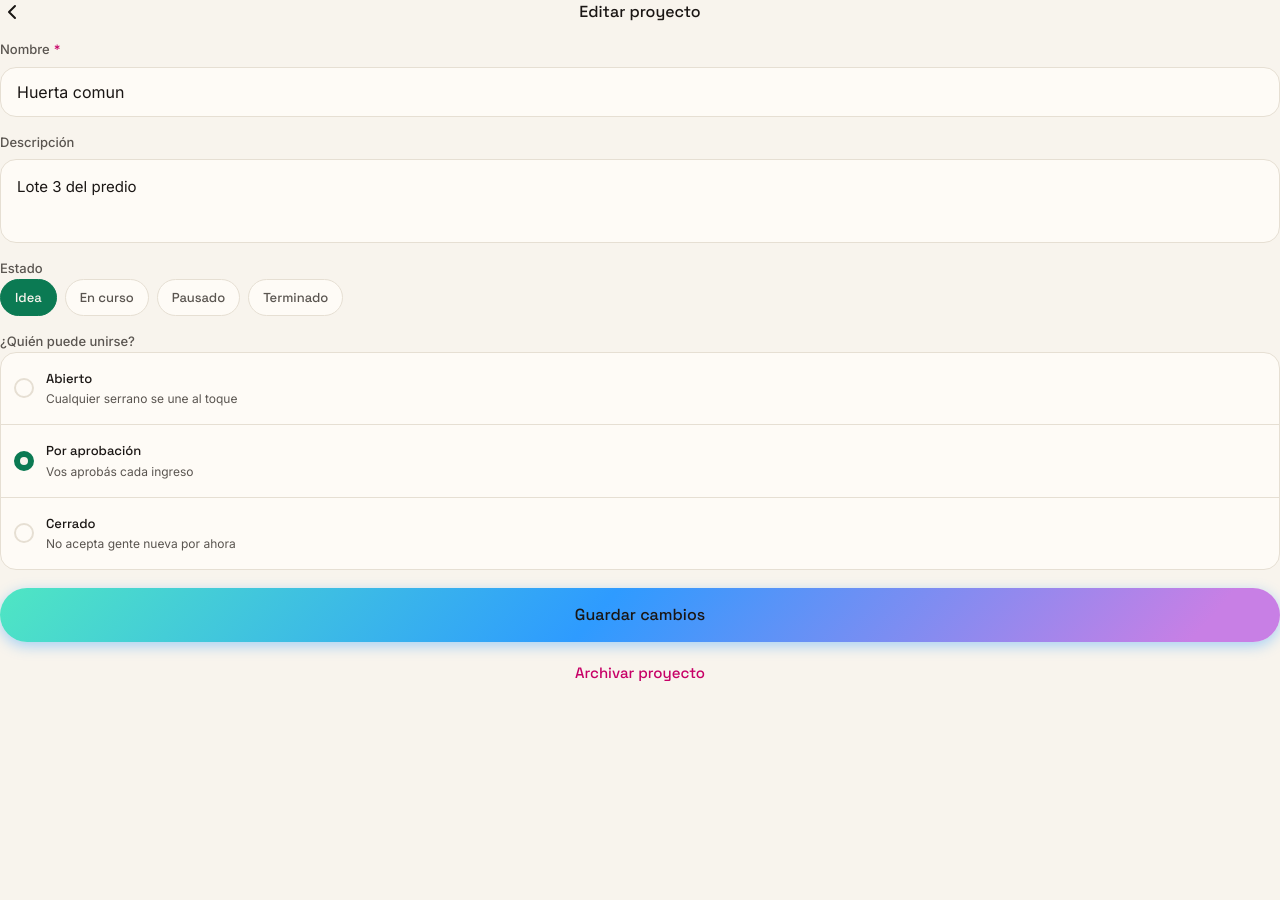
it: EditProjectPage › archive confirmation (ZER-201) › cancels with the X
The image size is (1280, 900).
Click the button "Archivar proyecto". click: (640, 673)
box: [575, 662, 705, 684]
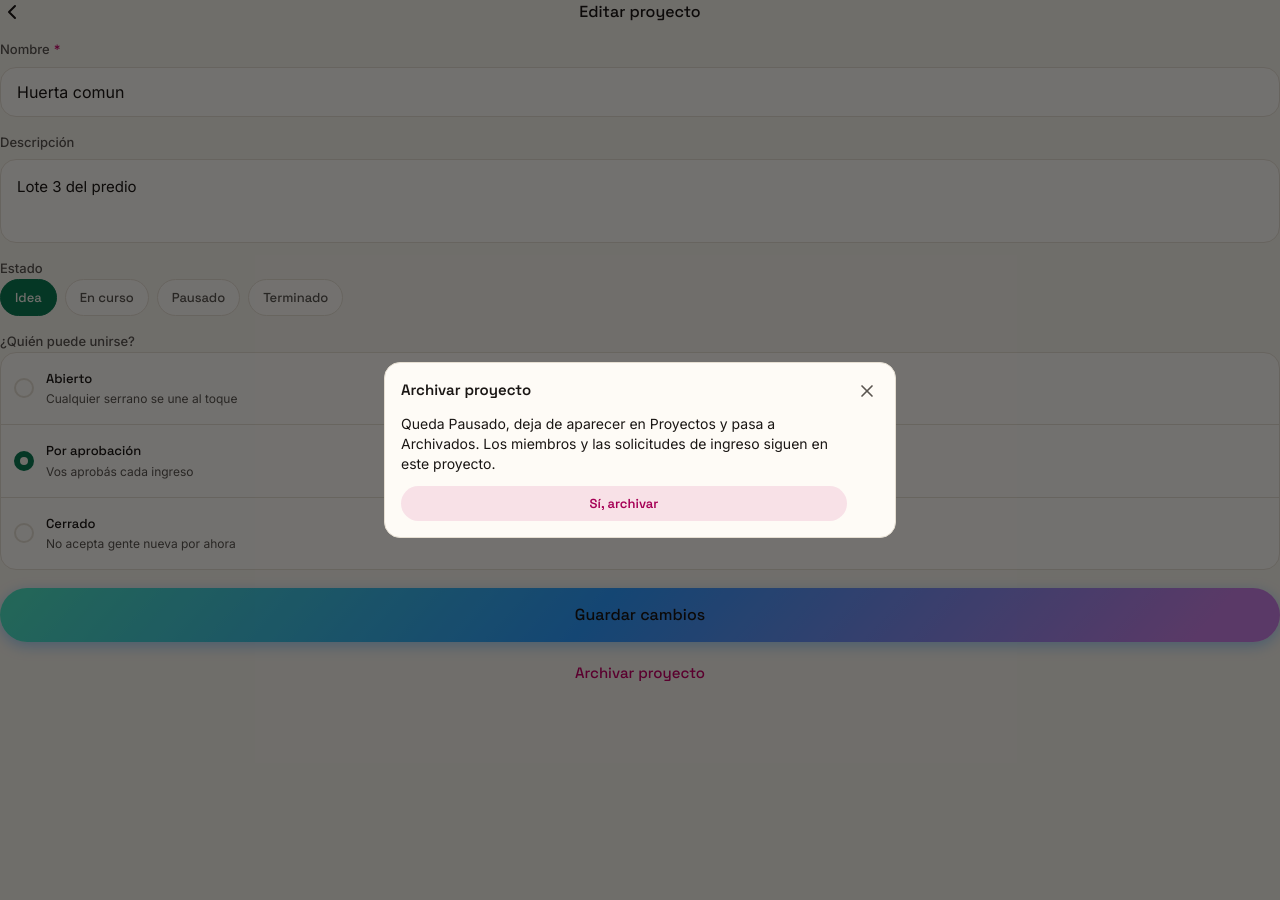
Click the button named "Cancelar". click: (867, 391)
box: [851, 375, 883, 407]
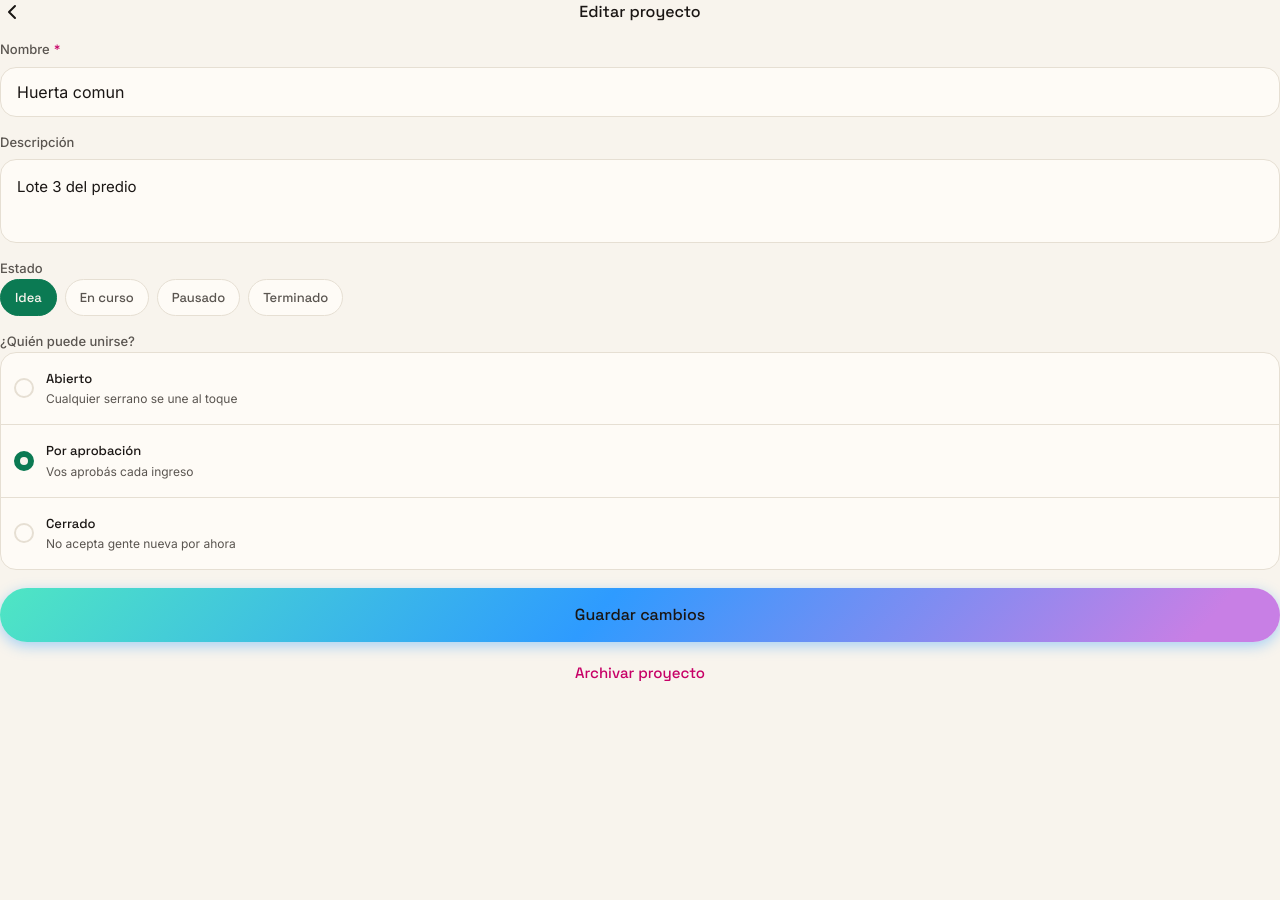
Now the dialog is gone
